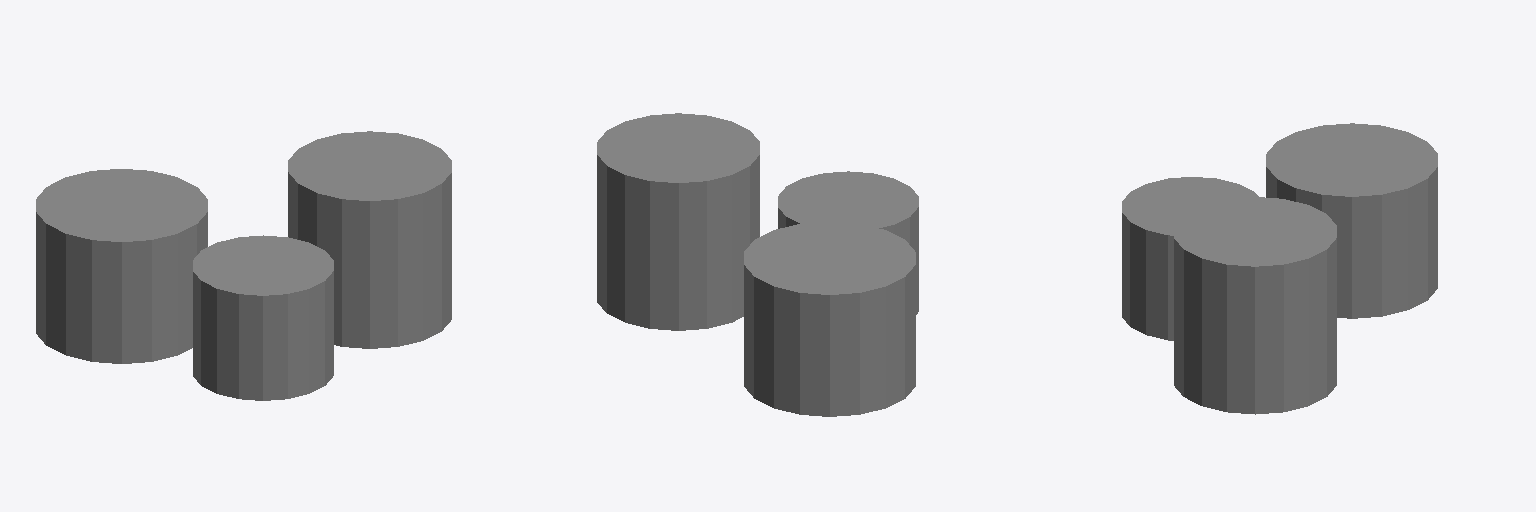
Rendered from walls.obj.
The picture shows the model from 3 angles: view 1: azimuth 30°, elevation 25°; view 2: azimuth 150°, elevation 25°; view 3: azimuth 270°, elevation 25°; orthographic projection.
Visible parts, largest first — view 1: Cylinder002, Cylinder001, Cylinder003; view 2: Cylinder001, Cylinder002, Cylinder003; view 3: Cylinder001, Cylinder002, Cylinder003.
Part boxes in pixels (left/top/right/bottom): Cylinder002: left=36, top=169, right=207, bottom=363; Cylinder001: left=288, top=131, right=451, bottom=348; Cylinder003: left=193, top=235, right=333, bottom=400; Cylinder001: left=597, top=113, right=759, bottom=330; Cylinder002: left=744, top=222, right=915, bottom=416; Cylinder003: left=778, top=171, right=918, bottom=314; Cylinder001: left=1174, top=197, right=1336, bottom=414; Cylinder002: left=1266, top=123, right=1437, bottom=318; Cylinder003: left=1122, top=177, right=1258, bottom=340.
Size of the model in its own units: 34.76 by 14.14 by 27.42.